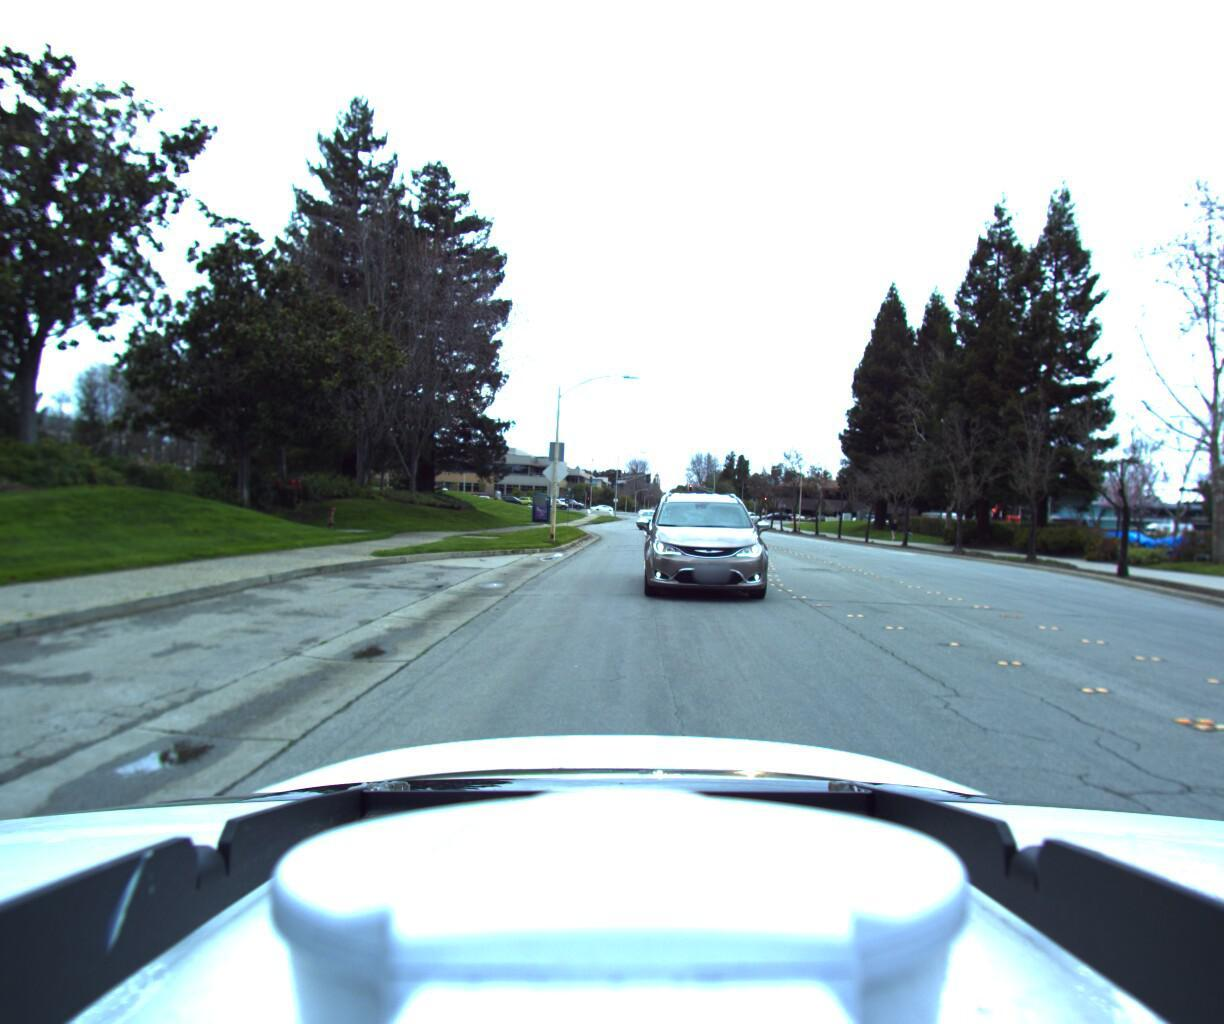car: (642, 485, 785, 612), (636, 508, 662, 527)
